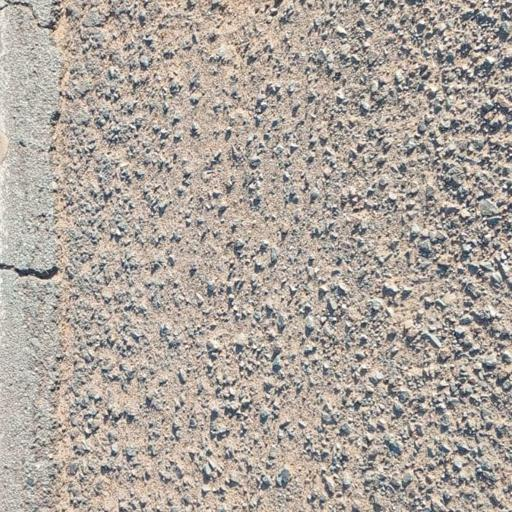GRIETA: (42, 1, 78, 511), (0, 263, 58, 279)
